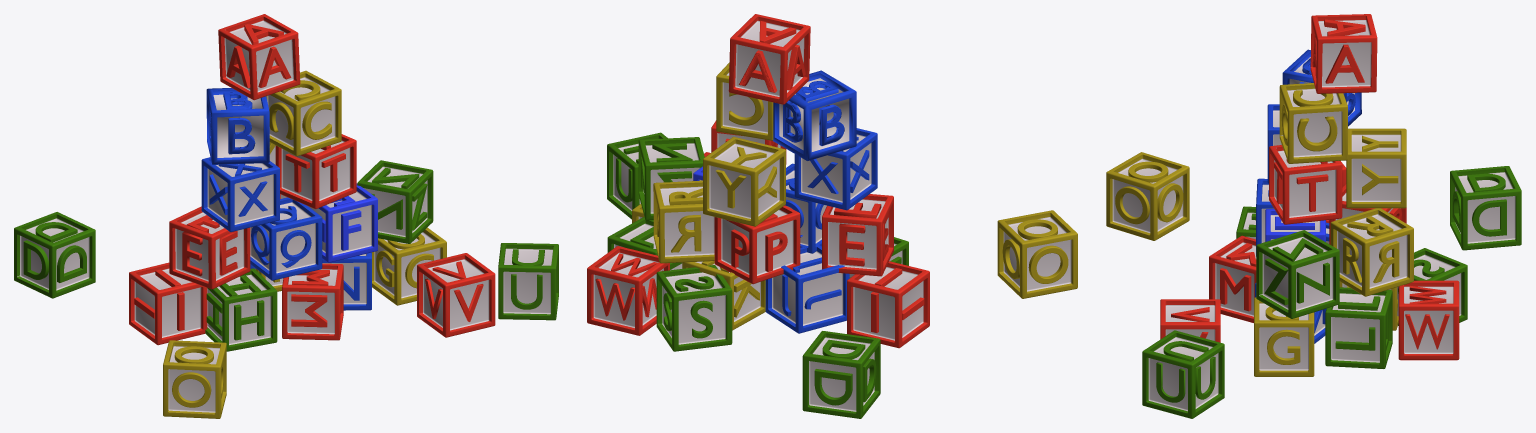
Rendered from ABCcubes2.fbx.
The picture shows the model from 3 angles, left to right: view 1: azimuth 30°, elevation 25°; view 2: azimuth 150°, elevation 25°; view 3: azimuth 270°, elevation 25°; orthographic projection. The views are drawn at different scales.
Visible parts, largest first — view 1: D, A, V, I, E, X, C, O, H, U, Q, Z (+6 smaller); view 2: Y, A, O, D, I, S, B, W, J, E, P, X (+8 smaller); view 3: Z, O, U, R, D, A, C, W, L, Y, T, G (+10 smaller).
Boxes of the visible parts, x1,y1,x2,y2 form: D: [14, 212, 95, 298]; A: [218, 14, 300, 100]; V: [417, 253, 495, 337]; I: [129, 262, 207, 345]; E: [169, 206, 250, 289]; X: [201, 157, 279, 231]; C: [266, 70, 341, 156]; O: [163, 340, 226, 418]; H: [205, 268, 277, 351]; U: [498, 243, 558, 320]; Q: [250, 197, 322, 280]; Z: [357, 160, 433, 243]; Y: [703, 137, 785, 226]; A: [728, 14, 810, 104]; O: [997, 210, 1077, 298]; D: [802, 331, 880, 418]; I: [847, 261, 929, 348]; S: [656, 265, 732, 351]; B: [773, 70, 856, 160]; W: [587, 246, 669, 335]; J: [765, 245, 849, 333]; E: [822, 194, 893, 276]; P: [714, 205, 800, 284]; X: [794, 128, 877, 210]; Z: [1256, 230, 1339, 318]; O: [1106, 152, 1189, 240]; U: [1142, 330, 1224, 418]; R: [1330, 208, 1413, 296]; D: [1450, 166, 1521, 250]; A: [1310, 14, 1377, 93]; C: [1279, 83, 1347, 163]; W: [1398, 280, 1459, 360]; L: [1325, 287, 1392, 368]; Y: [1346, 128, 1406, 208]; T: [1269, 145, 1342, 224]; G: [1254, 297, 1314, 376].
Bounding box in the file's own units: 19059 × 11670 × 15714.
